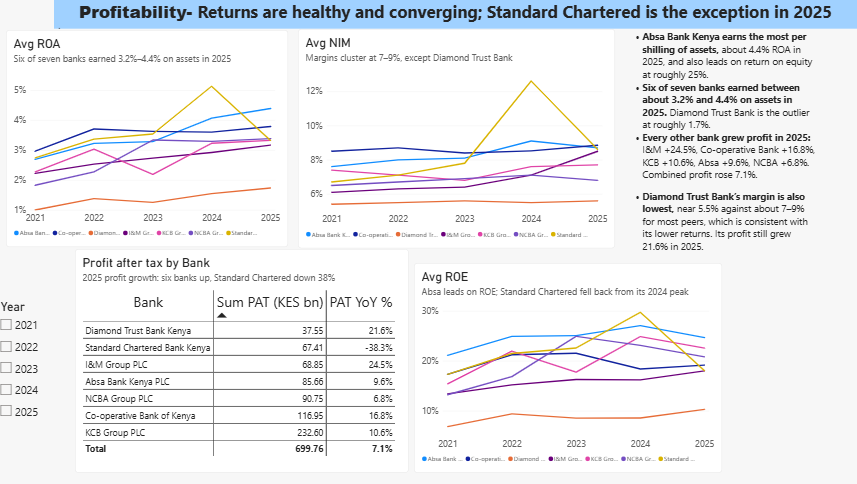

The page's visual inventory and layout, read from the dashboard file:
{"tool":"powerbi","page":{"name":"Profitability","canvas":[1920,1080],"ordinal":1},"visuals":[{"type":"textbox","box":[127.1,0,1798.7,63.6],"z":0},{"type":"slicer","fields":{"Values":["Working data.Year"]},"box":[0,666.8,165,283.2],"z":1000},{"type":"tableEx","title":"Profit after tax by Bank","fields":{"Values":["Working data.Bank","Working data.Sum PAT (KES bn)","Working data.PAT YoY %"]},"box":[174.2,555.6,744,499.1],"z":2000},{"type":"lineChart","title":"Avg ROE","fields":{"Category":["Working data.Year"],"Series":["Working data.Bank"],"Y":["Working data.Avg ROE"]},"box":[929.1,643,591.1,411.7],"z":3000},{"type":"lineChart","title":"Avg ROA","fields":{"Category":["Working data.Year"],"Series":["Working data.Bank"],"Y":["Working data.Avg ROA"]},"box":[20.8,66.1,628.8,484.4],"z":4000},{"type":"lineChart","title":"Avg NIM","fields":{"Category":["Working data.Year"],"Series":["Working data.Bank"],"Y":["Working data.Avg NIM"]},"box":[672.3,64.2,707.2,489.1],"z":5000},{"type":"textbox","box":[1407.2,66,417.5,542.7],"z":6000}]}

Visuals, with their boxes in screenshot pixels (x1, y1, x2, y2), scaled from the page's 1920x1080 canvas onto the 857x484 screenshot:
textbox: box(57, 0, 856, 29)
slicer - Working data.Year: box(0, 299, 74, 426)
"Profit after tax by Bank" tableEx: box(78, 249, 410, 473)
"Avg ROE" lineChart: box(415, 288, 679, 473)
"Avg ROA" lineChart: box(9, 30, 290, 247)
"Avg NIM" lineChart: box(300, 29, 616, 248)
textbox: box(628, 30, 814, 273)
